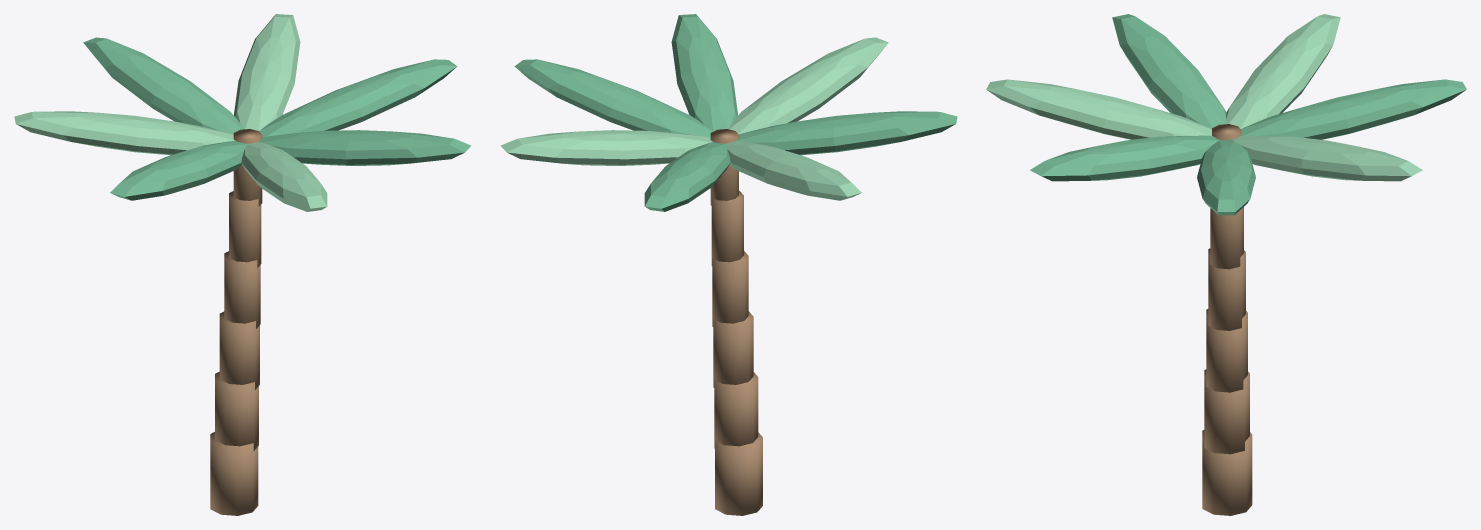
Rendered from HL_Tree_Palm.fbx.
The picture shows the model from 3 angles, left to right: view 1: azimuth 30°, elevation 25°; view 2: azimuth 150°, elevation 25°; view 3: azimuth 270°, elevation 25°; orthographic projection. The views are drawn at different scales.
Visible parts, largest first — view 1: Palm | long frond 3, Palm | long frond 0, Palm | long frond 6, Palm | long frond 2, Palm | long frond 1, Palm | long frond 4, Palm | long frond 5, Palm | trunk section 0, Palm | trunk section 1, Palm | trunk section 2, Palm | trunk section 3, Palm | trunk section 4 (+1 smaller); view 2: Palm | long frond 4, Palm | long frond 0, Palm | long frond 1, Palm | long frond 5, Palm | long frond 6, Palm | long frond 3, Palm | long frond 2, Palm | trunk section 0, Palm | trunk section 1, Palm | trunk section 2, Palm | trunk section 3, Palm | trunk section 4 (+1 smaller); view 3: Palm | long frond 2, Palm | long frond 5, Palm | long frond 3, Palm | long frond 4, Palm | long frond 6, Palm | long frond 1, Palm | long frond 0, Palm | trunk section 0, Palm | trunk section 1, Palm | trunk section 2, Palm | trunk section 3, Palm | trunk section 4.
Part boxes in pixels (<box>): Palm | long frond 3: <box>14,111,234,155</box>; Palm | long frond 0: <box>259,59,457,137</box>; Palm | long frond 6: <box>259,130,471,165</box>; Palm | long frond 2: <box>83,37,243,134</box>; Palm | long frond 1: <box>234,14,300,130</box>; Palm | long frond 4: <box>110,140,246,200</box>; Palm | long frond 5: <box>241,142,327,211</box>; Palm | trunk section 0: <box>210,432,258,515</box>; Palm | trunk section 1: <box>215,371,258,450</box>; Palm | trunk section 2: <box>219,311,259,389</box>; Palm | trunk section 3: <box>224,251,260,328</box>; Palm | trunk section 4: <box>229,191,261,267</box>; Palm | long frond 4: <box>737,111,957,155</box>; Palm | long frond 0: <box>514,59,712,137</box>; Palm | long frond 1: <box>500,130,712,165</box>; Palm | long frond 5: <box>728,37,888,134</box>; Palm | long frond 6: <box>671,14,737,131</box>; Palm | long frond 3: <box>725,140,861,200</box>; Palm | long frond 2: <box>644,142,730,211</box>; Palm | trunk section 0: <box>715,432,762,515</box>; Palm | trunk section 1: <box>714,372,758,448</box>; Palm | trunk section 2: <box>713,311,753,387</box>; Palm | trunk section 3: <box>712,251,748,326</box>; Palm | trunk section 4: <box>711,191,743,265</box>; Palm | long frond 2: <box>1240,79,1466,139</box>; Palm | long frond 5: <box>986,79,1211,139</box>; Palm | long frond 3: <box>1226,14,1340,128</box>; Palm | long frond 4: <box>1112,14,1226,128</box>; Palm | long frond 6: <box>1030,135,1220,181</box>; Palm | long frond 1: <box>1232,135,1422,181</box>; Palm | long frond 0: <box>1197,140,1255,215</box>; Palm | trunk section 0: <box>1202,430,1252,515</box>; Palm | trunk section 1: <box>1204,369,1249,454</box>; Palm | trunk section 2: <box>1206,309,1247,392</box>; Palm | trunk section 3: <box>1208,248,1245,330</box>; Palm | trunk section 4: <box>1210,207,1243,269</box>.
Bounding box in the file's own units: 492 × 474 × 504.
